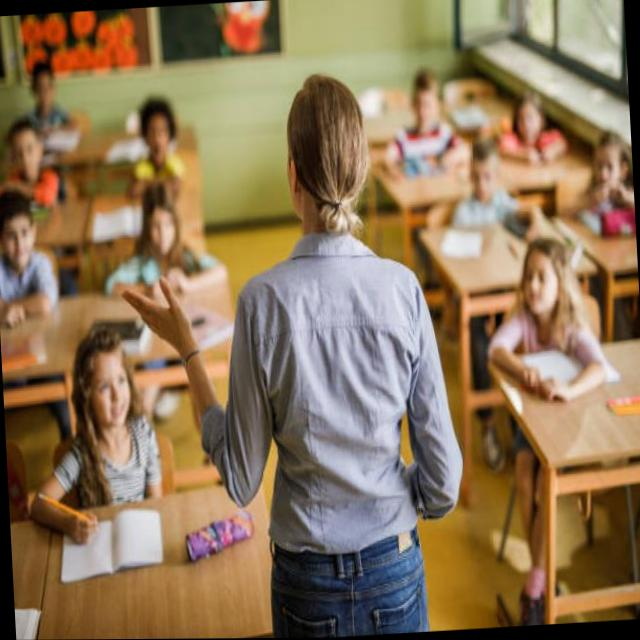no helmet: (261, 41, 389, 263)
